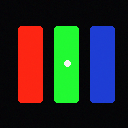0 point: (64, 60, 70, 66)
